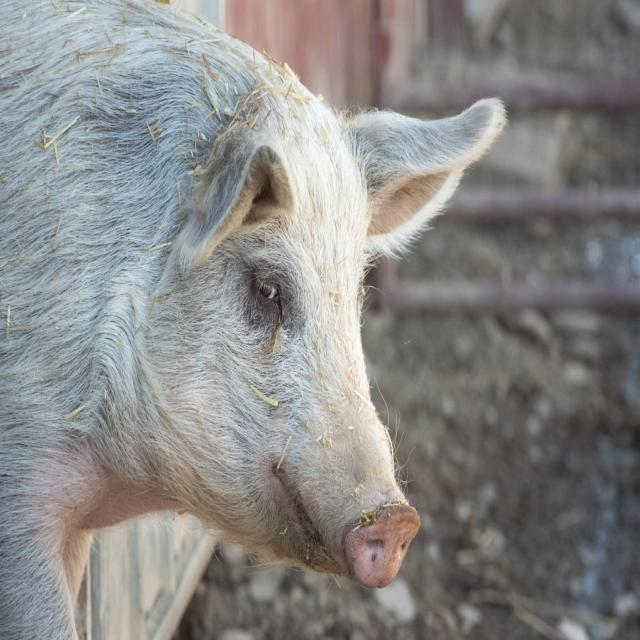Pig: (0, 5, 507, 640)
